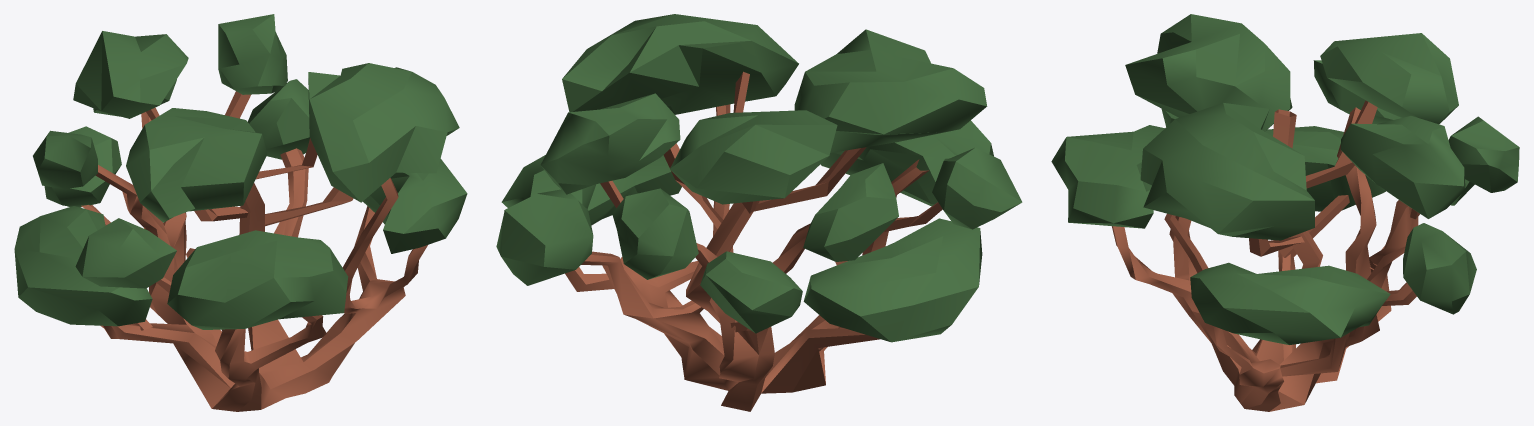
File: Tree_7.fbx
3 renders of one model, left to right at view 1: azimuth 30°, elevation 25°; view 2: azimuth 150°, elevation 25°; view 3: azimuth 270°, elevation 25°, orthographic. The views are drawn at different scales.
Visible parts, largest first — view 1: Tree_7; view 2: Tree_7; view 3: Tree_7.
Boxes of the visible parts, bbox=[...] form: Tree_7: bbox=[14, 14, 467, 411]; Tree_7: bbox=[496, 14, 1022, 411]; Tree_7: bbox=[1051, 14, 1519, 411].
Size of the model in its own units: 250 by 178 by 243.
